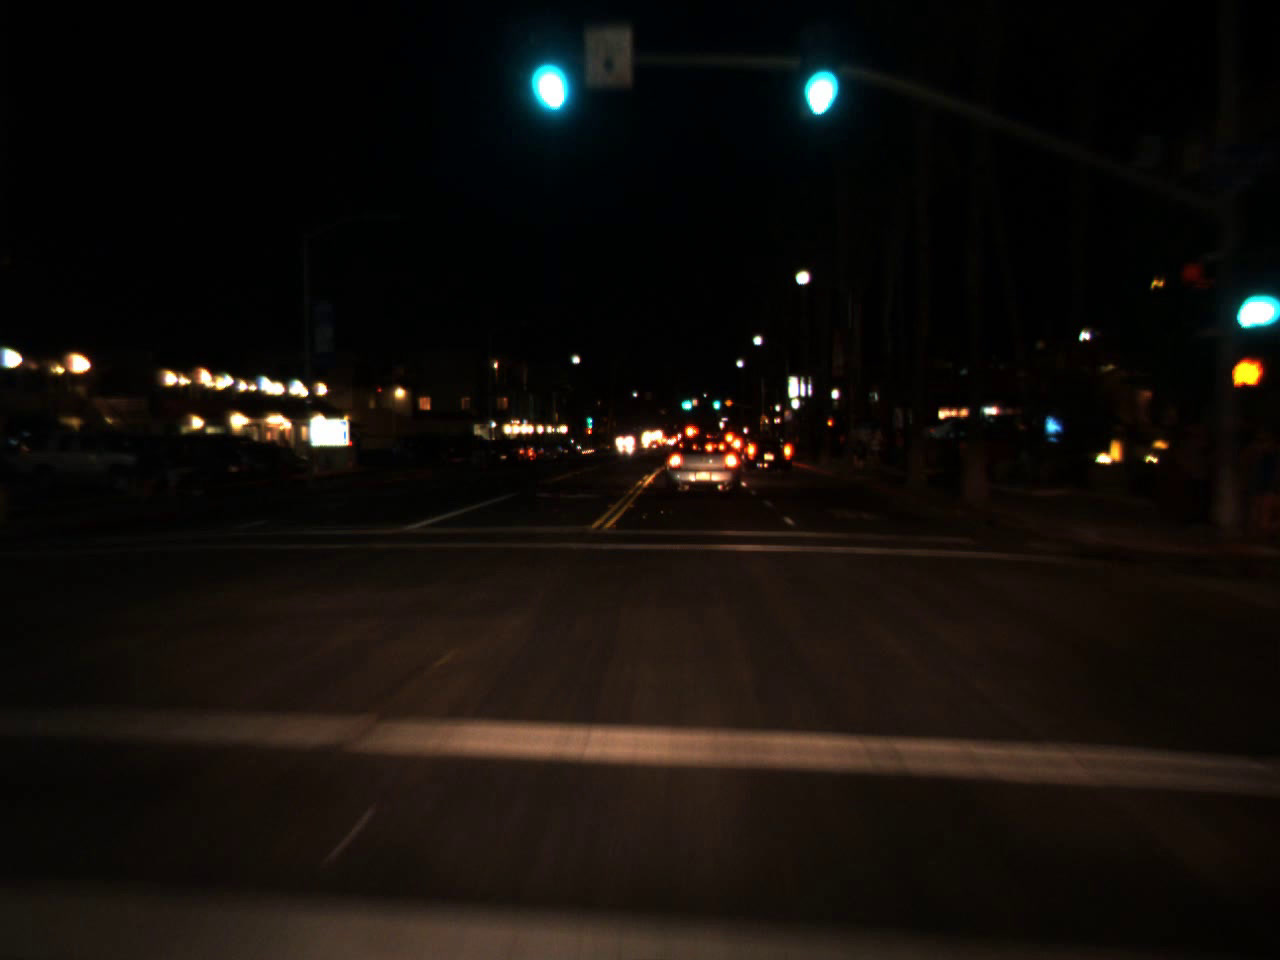go: (1225, 260, 1277, 338), (796, 38, 839, 122), (529, 31, 568, 118), (677, 393, 693, 411), (586, 406, 593, 430), (711, 396, 721, 408)
